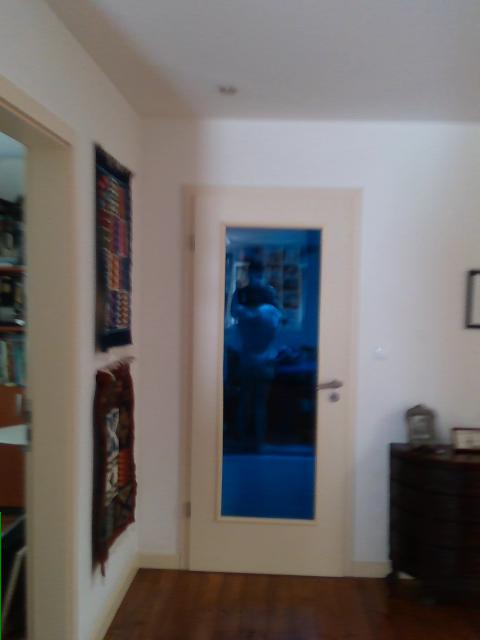door: (180, 190, 362, 580)
